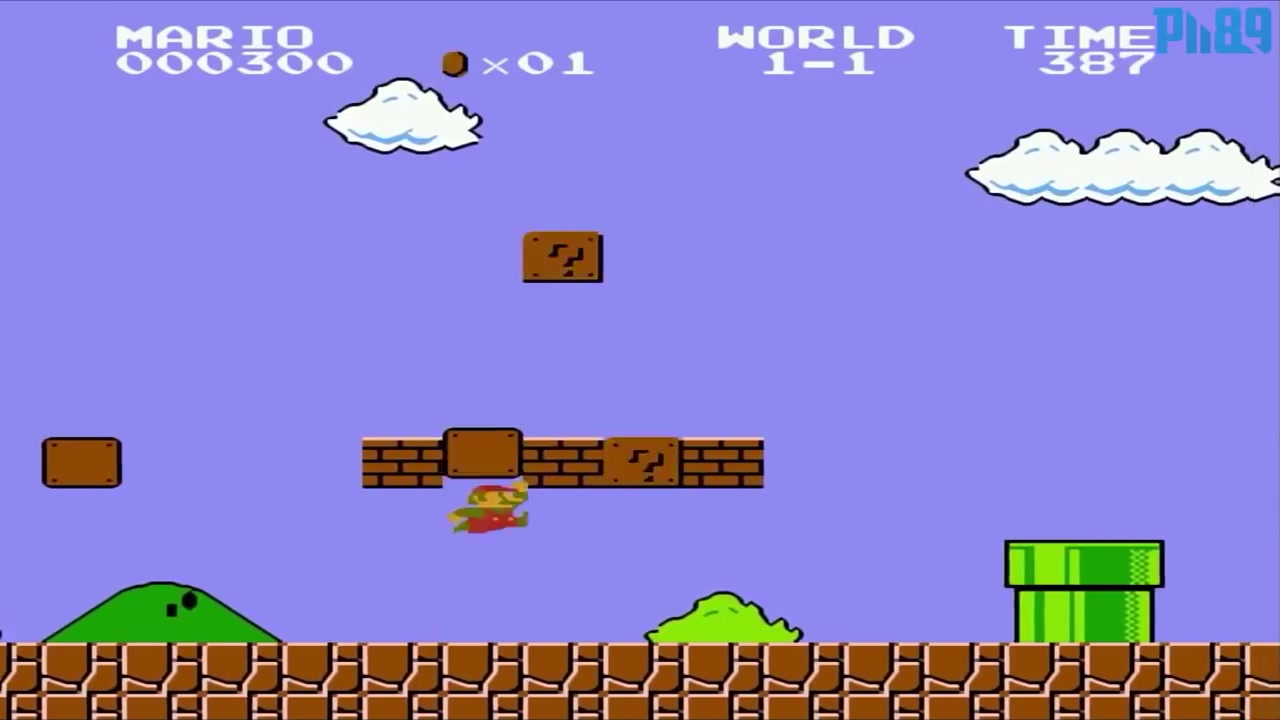mario: (444, 477, 533, 543)
